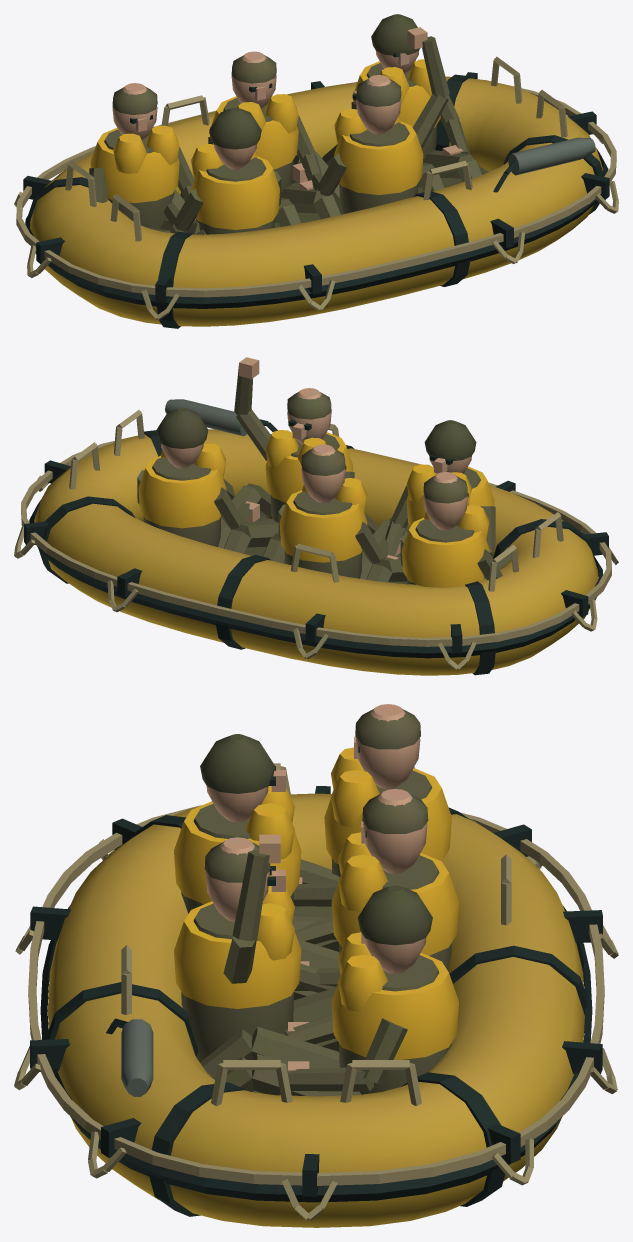
The model's file is type-a3-life-raft-survivors.glb.
3 renders of one model, top to bottom at view 1: azimuth 30°, elevation 25°; view 2: azimuth 150°, elevation 25°; view 3: azimuth 270°, elevation 25°, orthographic. The views are drawn at different scales.
Parts seen in each view (by area): view 1: Raft, type-a3-life-raft-survivors_boots, SurvivorVests, Survivors, SurvivorHeads; view 2: Raft, type-a3-life-raft-survivors_boots, SurvivorVests, Survivors, SurvivorHeads; view 3: Raft, type-a3-life-raft-survivors_boots, SurvivorVests, Survivors, SurvivorHeads.
Boxes of the visible parts, bbox=[...] form: Raft: bbox=[30, 76, 603, 326]; type-a3-life-raft-survivors_boots: bbox=[14, 14, 618, 328]; SurvivorVests: bbox=[90, 59, 440, 229]; Survivors: bbox=[89, 36, 482, 234]; SurvivorHeads: bbox=[112, 27, 463, 219]; Raft: bbox=[34, 429, 598, 675]; type-a3-life-raft-survivors_boots: bbox=[14, 399, 618, 675]; SurvivorVests: bbox=[138, 430, 494, 587]; Survivors: bbox=[137, 366, 517, 584]; SurvivorHeads: bbox=[161, 357, 471, 559]; Raft: bbox=[47, 793, 584, 1227]; type-a3-life-raft-survivors_boots: bbox=[14, 734, 618, 1220]; SurvivorVests: bbox=[174, 747, 458, 1059]; Survivors: bbox=[181, 709, 451, 1096]; SurvivorHeads: bbox=[205, 704, 427, 1071].
Size of the model in its own units: 2.63 by 0.898 by 1.69.
Materials: 1 (1 with a texture image).
